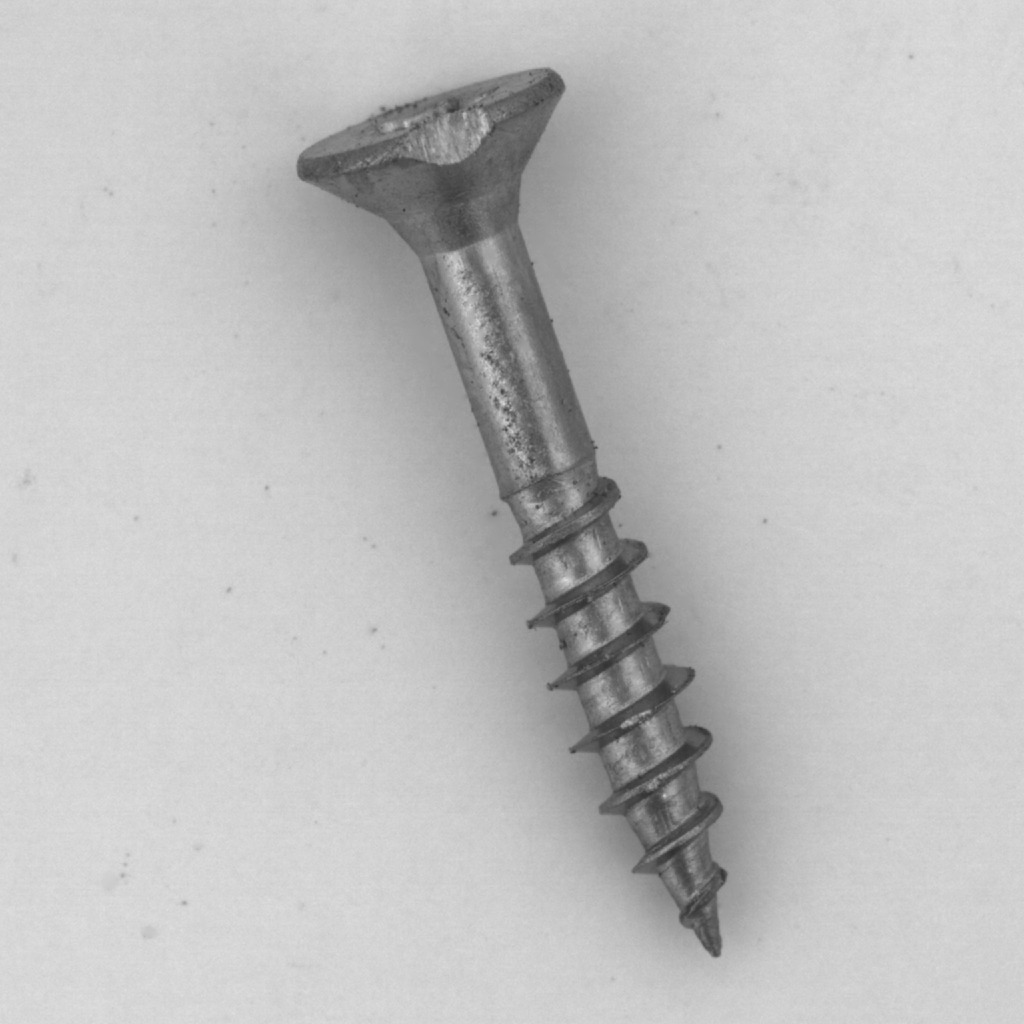thread_top: (324, 394, 579, 598)
